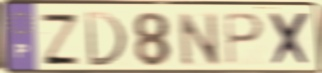8: (132, 10, 175, 69)
D: (83, 10, 130, 69)
N: (176, 11, 223, 69)
P: (223, 12, 266, 68)
X: (268, 11, 314, 68)
Z: (38, 12, 83, 67)
